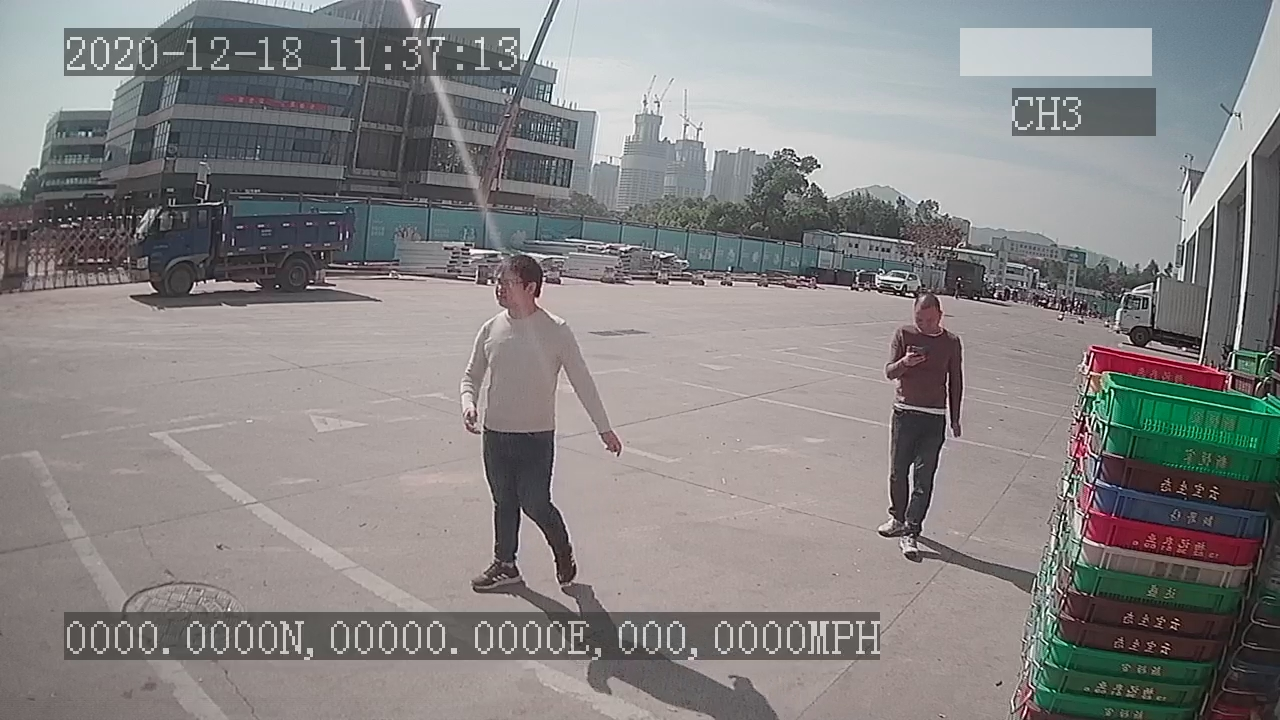person: (455, 249, 625, 594), (865, 295, 965, 563)
